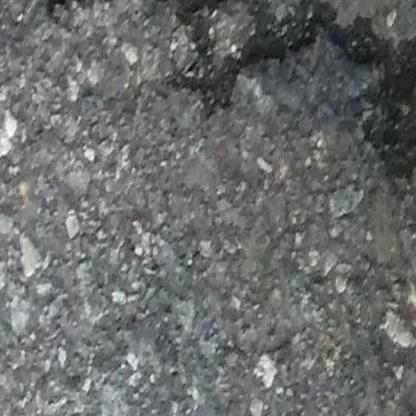Cracks: (0, 0, 416, 185)
